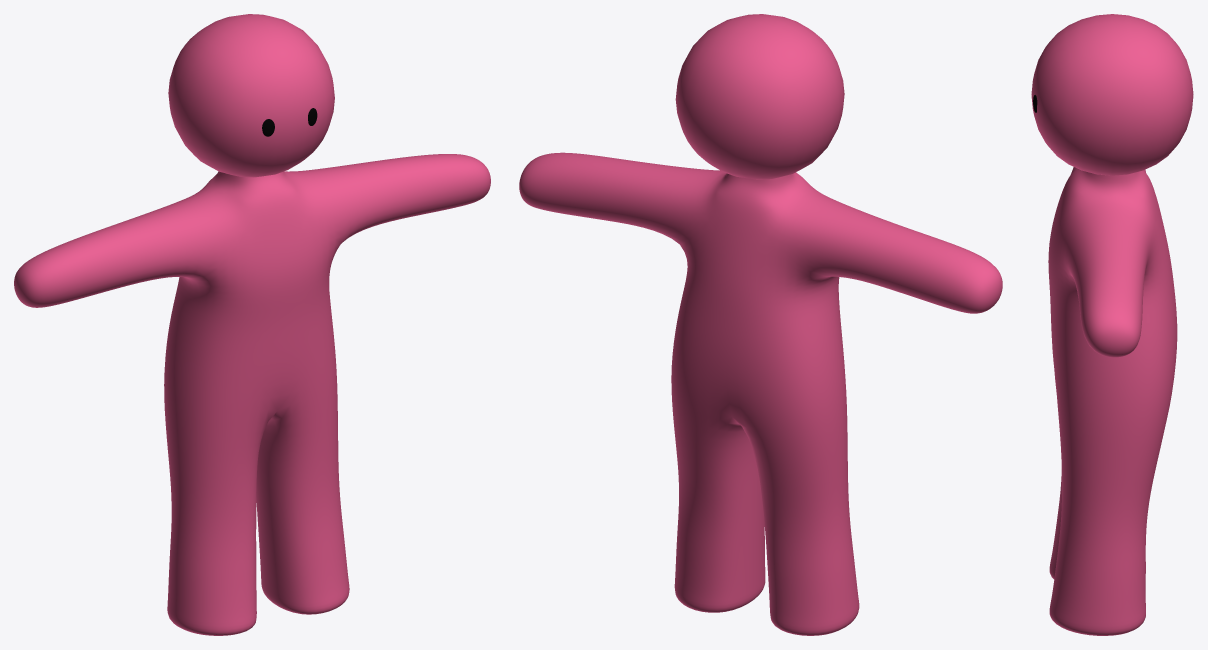
The model's file is KARAKTER.fbx.
The picture shows the model from 3 angles, left to right: view 1: azimuth 30°, elevation 25°; view 2: azimuth 150°, elevation 25°; view 3: azimuth 270°, elevation 25°; orthographic projection. The views are drawn at different scales.
Visible parts, largest first — view 1: Cube.001, Cube; view 2: Cube.001, Cube; view 3: Cube.001, Cube.
Boxes of the visible parts, left/top/right/bottom form: Cube.001: left=14, top=154, right=490, bottom=635; Cube: left=168, top=14, right=334, bottom=177; Cube.001: left=519, top=152, right=1002, bottom=635; Cube: left=675, top=14, right=844, bottom=179; Cube.001: left=1048, top=167, right=1177, bottom=635; Cube: left=1031, top=14, right=1193, bottom=175.
Bounding box in the file's own units: 148 × 177 × 45.
